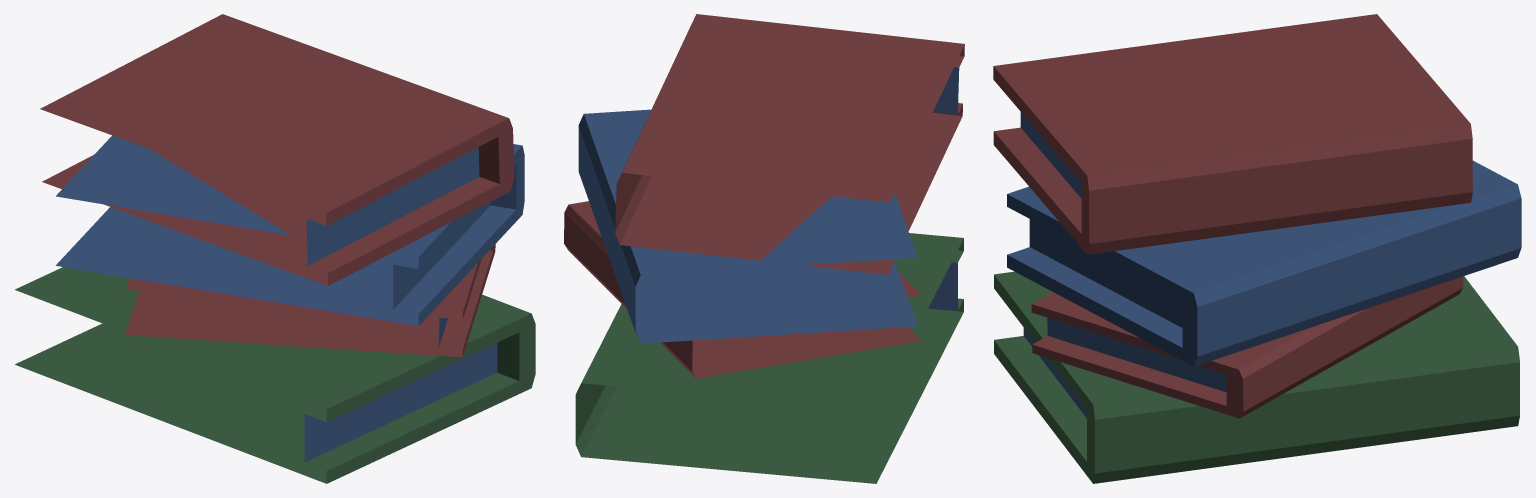
Rendered from BookPile01.fbx.
3 views of the same model, side by side, from view 1: azimuth 30°, elevation 25°; view 2: azimuth 150°, elevation 25°; view 3: azimuth 270°, elevation 25° (orthographic). The views are drawn at different scales.
Visible parts, largest first — view 1: BookPile01; view 2: BookPile01; view 3: BookPile01.
Part boxes in pixels (box(x1,y1,x2,y2)): BookPile01: box(15, 14, 535, 483); BookPile01: box(564, 14, 964, 483); BookPile01: box(993, 14, 1521, 483).
Bounding box in the file's own units: 38.34 × 25.1 × 40.72.
